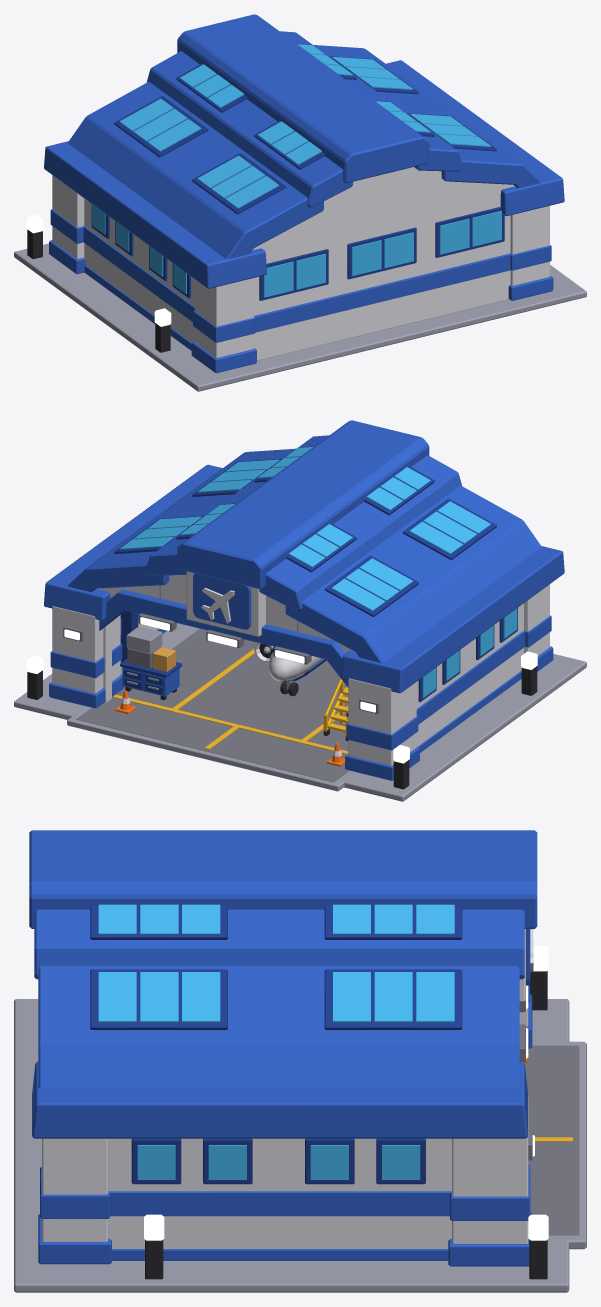
The model's file is Hangar.glb.
The picture shows the model from 3 angles, top to bottom: view 1: azimuth 30°, elevation 25°; view 2: azimuth 150°, elevation 25°; view 3: azimuth 270°, elevation 25°; orthographic projection. The views are drawn at different scales.
Visible parts, largest first — view 1: M_Hangar_TowerBlue, M_Hangar_PlaneBody, M_Hangar_Window, M_Hangar_Steel, M_Hangar_TowerNavy, M_Hangar_Tire, M_Hangar_Light; view 2: M_Hangar_TowerBlue, M_Hangar_Metal, M_Hangar_PlaneBody, M_Hangar_Steel, M_Hangar_Window, M_Hangar_TowerNavy, M_Hangar_ToyYellow, M_Hangar_Light, M_Hangar_Tire, M_Hangar_Cardboard; view 3: M_Hangar_TowerBlue, M_Hangar_PlaneBody, M_Hangar_Steel, M_Hangar_Window, M_Hangar_TowerNavy, M_Hangar_Metal, M_Hangar_Tire, M_Hangar_Light.
Part boxes in pixels (box(x1,y1,x2,y2)): M_Hangar_TowerBlue: box(44, 14, 564, 373); M_Hangar_PlaneBody: box(52, 167, 549, 360); M_Hangar_Window: box(92, 44, 501, 297); M_Hangar_Steel: box(14, 243, 586, 391); M_Hangar_TowerNavy: box(91, 43, 504, 300); M_Hangar_Tire: box(27, 230, 170, 352); M_Hangar_Light: box(26, 215, 171, 326); M_Hangar_TowerBlue: box(44, 420, 564, 780); M_Hangar_Metal: box(63, 613, 379, 782); M_Hangar_PlaneBody: box(52, 571, 549, 765); M_Hangar_Steel: box(14, 585, 586, 801); M_Hangar_Window: box(120, 446, 517, 697); M_Hangar_TowerNavy: box(114, 446, 517, 702); M_Hangar_ToyYellow: box(112, 649, 348, 754); M_Hangar_Light: box(26, 617, 537, 763); M_Hangar_Tire: box(27, 643, 537, 789); M_Hangar_Cardboard: box(152, 647, 175, 671); M_Hangar_TowerBlue: box(29, 830, 537, 1266); M_Hangar_PlaneBody: box(42, 929, 533, 1248); M_Hangar_Steel: box(14, 999, 586, 1292); M_Hangar_Window: box(98, 904, 454, 1179); M_Hangar_TowerNavy: box(90, 906, 462, 1184); M_Hangar_Metal: box(519, 1000, 579, 1235); M_Hangar_Tire: box(145, 971, 547, 1279); M_Hangar_Light: box(144, 929, 548, 1240).
Size of the model in its own units: 26.6 by 12.75 by 22.5.
